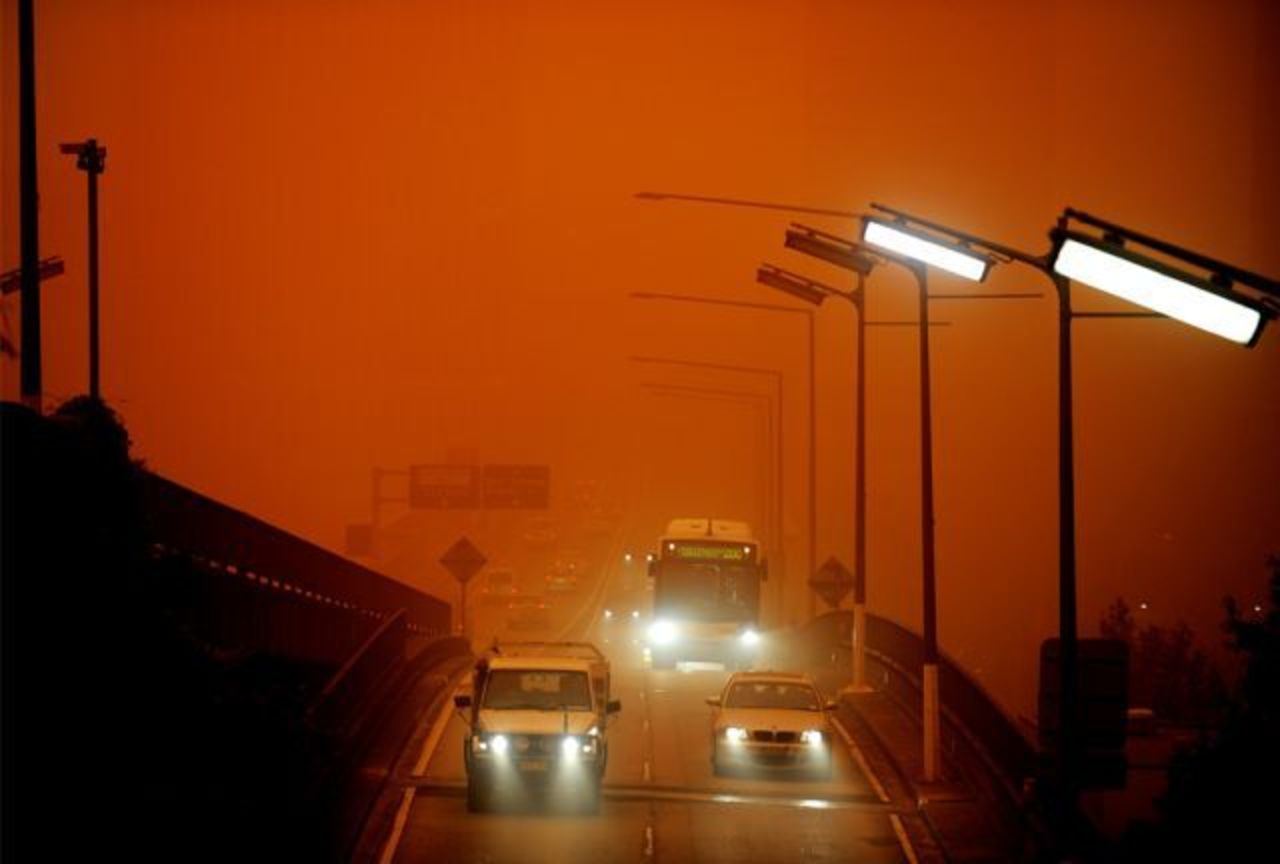bus: (647, 516, 767, 676)
car: (462, 648, 614, 806), (711, 669, 838, 781), (505, 591, 551, 632), (480, 567, 515, 604), (603, 595, 639, 624), (542, 567, 577, 594), (522, 520, 556, 547)
